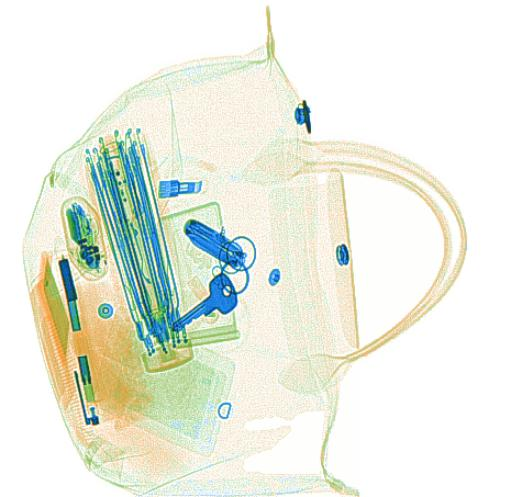knife: (183, 215, 246, 269)
